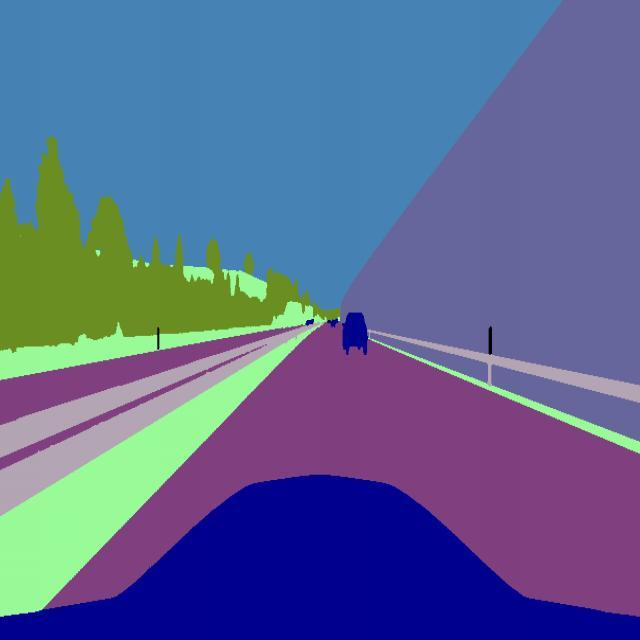safe: (343, 309, 370, 359), (328, 315, 338, 331)
